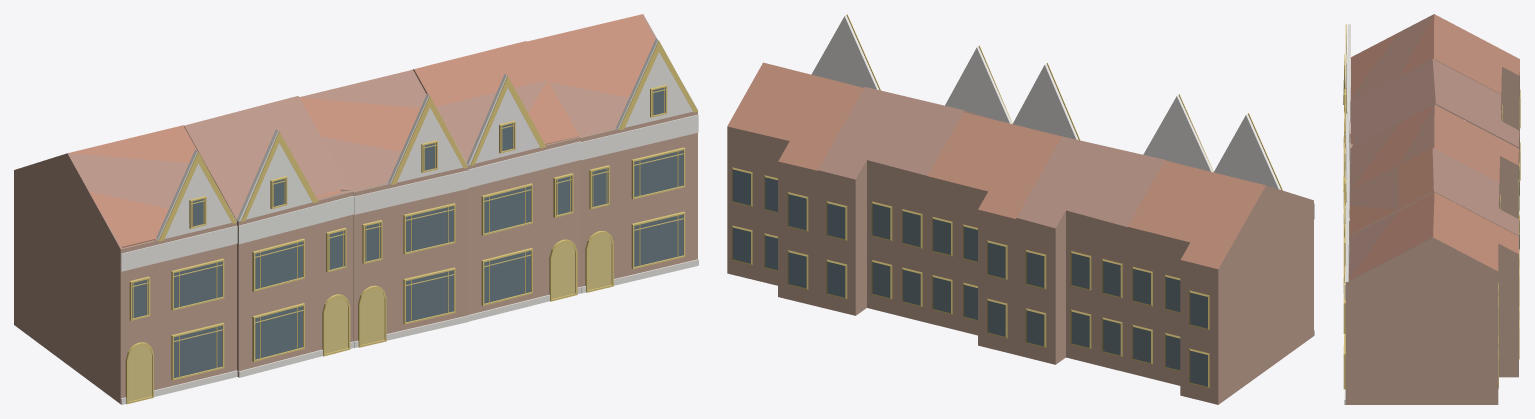
File: chunk-face-zaanhof-125-134.glb
3 renders of one model, left to right at view 1: azimuth 30°, elevation 25°; view 2: azimuth 150°, elevation 25°; view 3: azimuth 270°, elevation 25°, orthographic. The views are drawn at different scales.
Parts seen in each view (by area): view 1: face-zaanhof-125-134; view 2: face-zaanhof-125-134; view 3: face-zaanhof-125-134.
Boxes of the visible parts, x1,y1,x2,y2 form: face-zaanhof-125-134: (14,14,698,404); face-zaanhof-125-134: (727,14,1314,404); face-zaanhof-125-134: (1343,14,1520,404).
Size of the model in its own units: 29.85 by 11.72 by 10.02.
